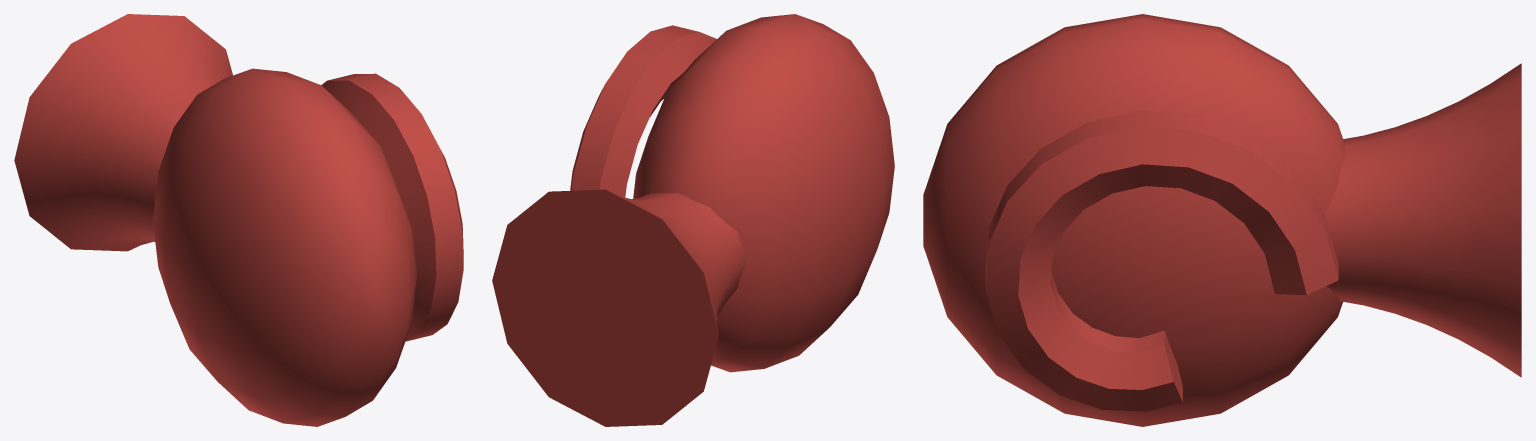
Rendered from snail.glb.
The picture shows the model from 3 angles, left to right: view 1: azimuth 30°, elevation 25°; view 2: azimuth 150°, elevation 25°; view 3: azimuth 270°, elevation 25°; orthographic projection. The views are drawn at different scales.
Visible parts, largest first — view 1: lod0; view 2: lod0; view 3: lod0.
Part boxes in pixels (left/top/right/bottom): lod0: left=14, top=14, right=463, bottom=426; lod0: left=492, top=14, right=894, bottom=426; lod0: left=923, top=14, right=1521, bottom=426.
Size of what is drawn, in the model's own units: 0.053 by 0.07 by 0.0947.
